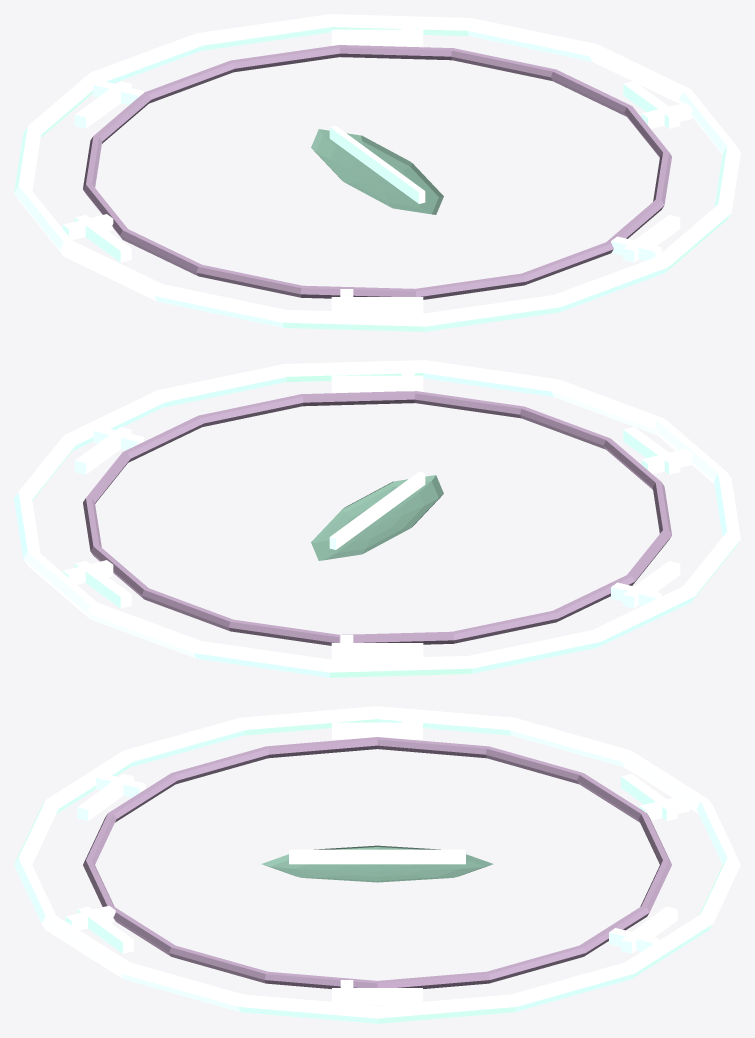
Rendered from runestone-conservatory-botanical-ritual-circle__122.glb.
3 renders of one model, top to bottom at view 1: azimuth 30°, elevation 25°; view 2: azimuth 150°, elevation 25°; view 3: azimuth 270°, elevation 25°, orthographic.
Parts seen in each view (by area): view 1: runestone-conservatory-ritual-circle; view 2: runestone-conservatory-ritual-circle; view 3: runestone-conservatory-ritual-circle.
Boxes of the visible parts, x1,y1,x2,y2 form: runestone-conservatory-ritual-circle: (14,14,740,331); runestone-conservatory-ritual-circle: (14,360,740,677); runestone-conservatory-ritual-circle: (14,706,740,1023).
Bounding box in the file's own units: 1.44 × 0.0456 × 1.44.
